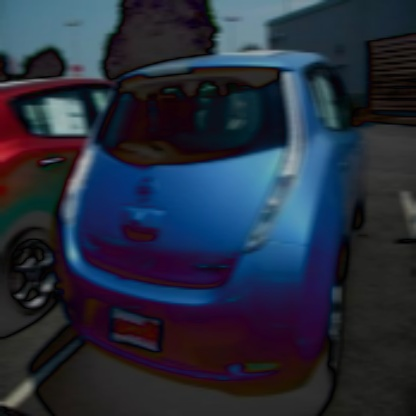Vehicle: (49, 50, 377, 402)
